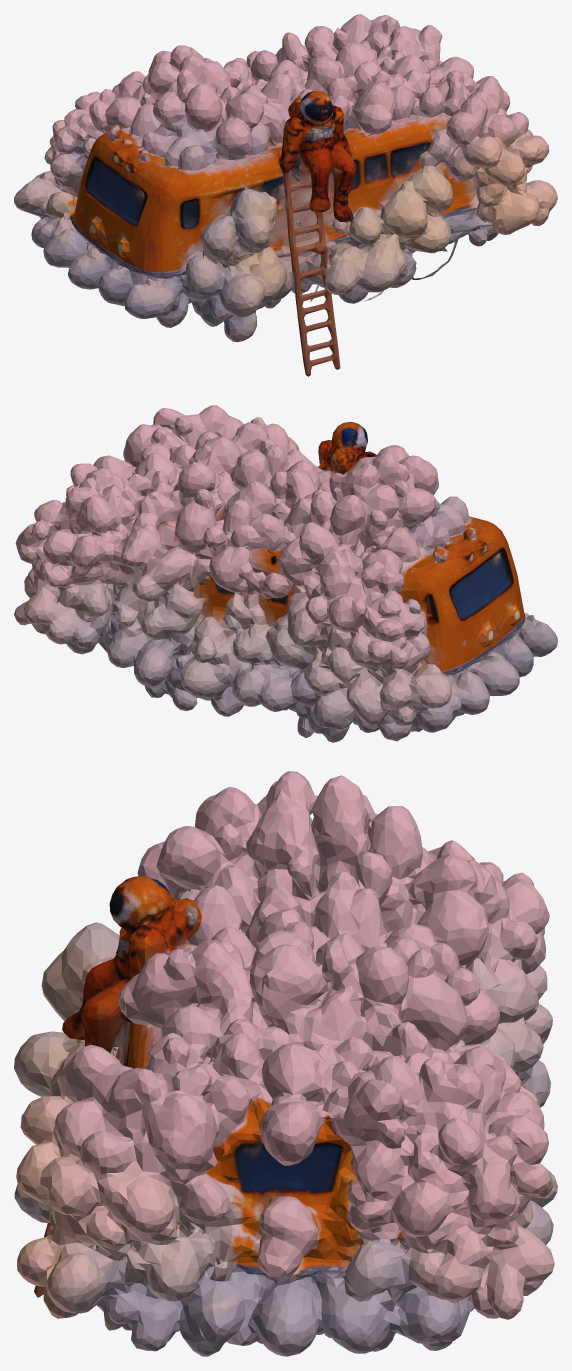
The picture shows the model from 3 angles, top to bottom: view 1: azimuth 30°, elevation 25°; view 2: azimuth 150°, elevation 25°; view 3: azimuth 270°, elevation 25°; orthographic projection. The views are drawn at different scales.
Visible parts, largest first — view 1: Node1; view 2: Node1; view 3: Node1.
Part boxes in pixels (x1,y1,x2,y2): Node1: [14, 14, 557, 376]; Node1: [14, 405, 557, 742]; Node1: [14, 771, 557, 1356].
Size of the model in its own units: 1.06 by 0.6589 by 0.6951.
1 material, 1 textured.
